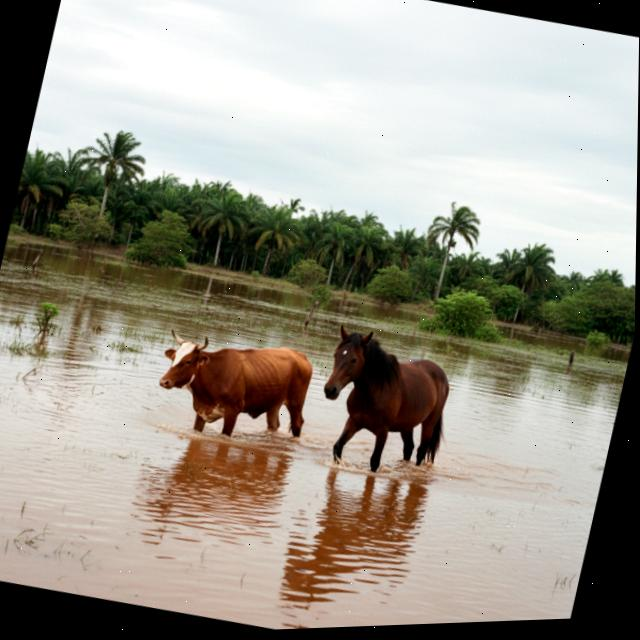cow: (141, 305, 329, 470)
horse: (300, 315, 471, 496)
